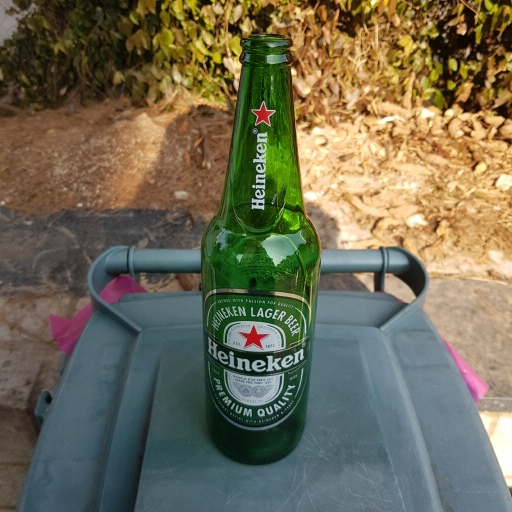Glass_1: (197, 34, 323, 469)
